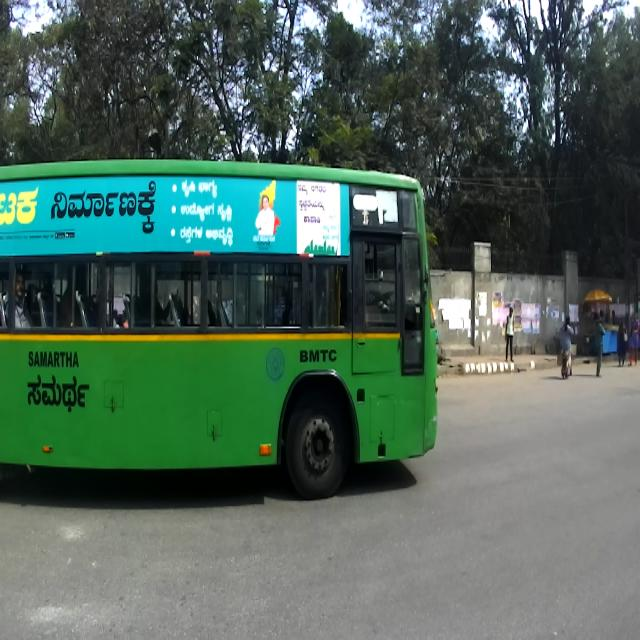bus ahead at: (0, 160, 441, 495)
